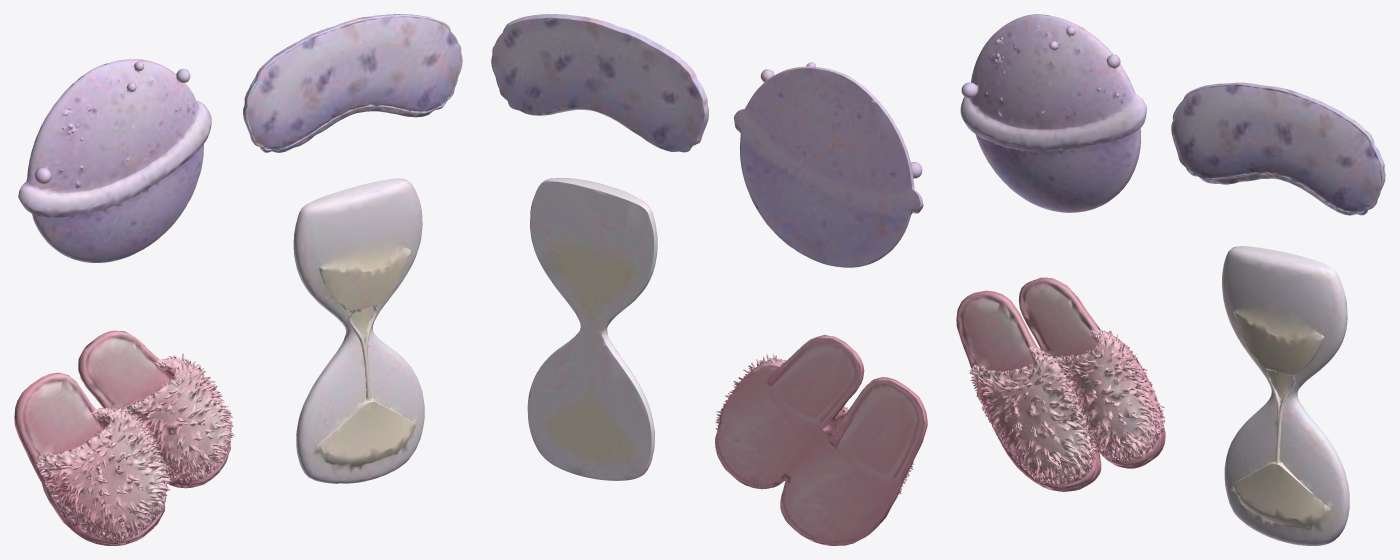
The picture shows the model from 3 angles, left to right: view 1: azimuth 30°, elevation 25°; view 2: azimuth 150°, elevation 25°; view 3: azimuth 330°, elevation 25°; orthographic projection. The views are drawn at different scales.
Visible parts, largest first — view 1: Mesh 1, Mesh 9, Mesh 2, Mesh 8; view 2: Mesh 1, Mesh 9, Mesh 2, Mesh 8; view 3: Mesh 1, Mesh 9, Mesh 2, Mesh 8.
Part boxes in pixels (x1=…): Mesh 1: x1=14, y1=330, x2=234, y2=545; Mesh 9: x1=293, y1=178, x2=424, y2=483; Mesh 2: x1=18, y1=59, x2=211, y2=262; Mesh 8: x1=243, y1=14, x2=462, y2=152; Mesh 1: x1=715, y1=335, x2=927, y2=545; Mesh 9: x1=527, y1=178, x2=657, y2=480; Mesh 2: x1=734, y1=62, x2=923, y2=267; Mesh 8: x1=491, y1=14, x2=708, y2=152; Mesh 1: x1=956, y1=277, x2=1165, y2=491; Mesh 9: x1=1222, y1=246, x2=1349, y2=545; Mesh 2: x1=960, y1=14, x2=1146, y2=212; Mesh 8: x1=1171, y1=82, x2=1385, y2=215.
Size of the model in its own units: 1.75 by 1.82 by 0.1258.
4 materials, 4 textured.
